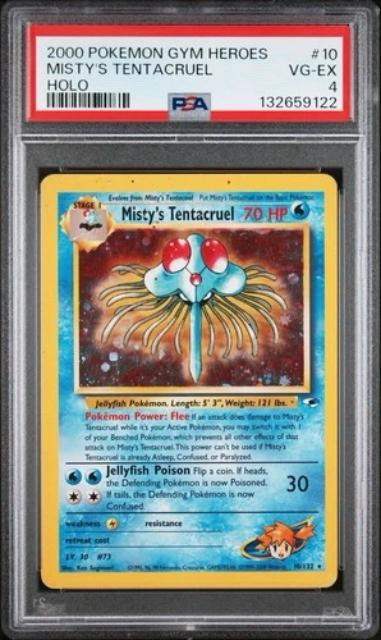Card: (36, 167, 342, 595)
Name: (116, 203, 241, 225)
